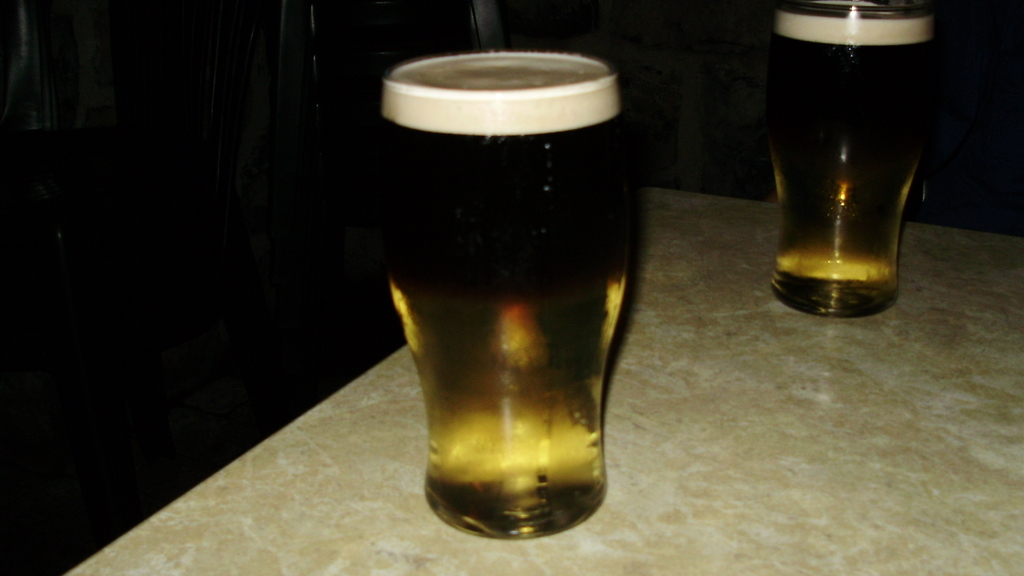Beer: (376, 50, 633, 540), (765, 0, 934, 317)
